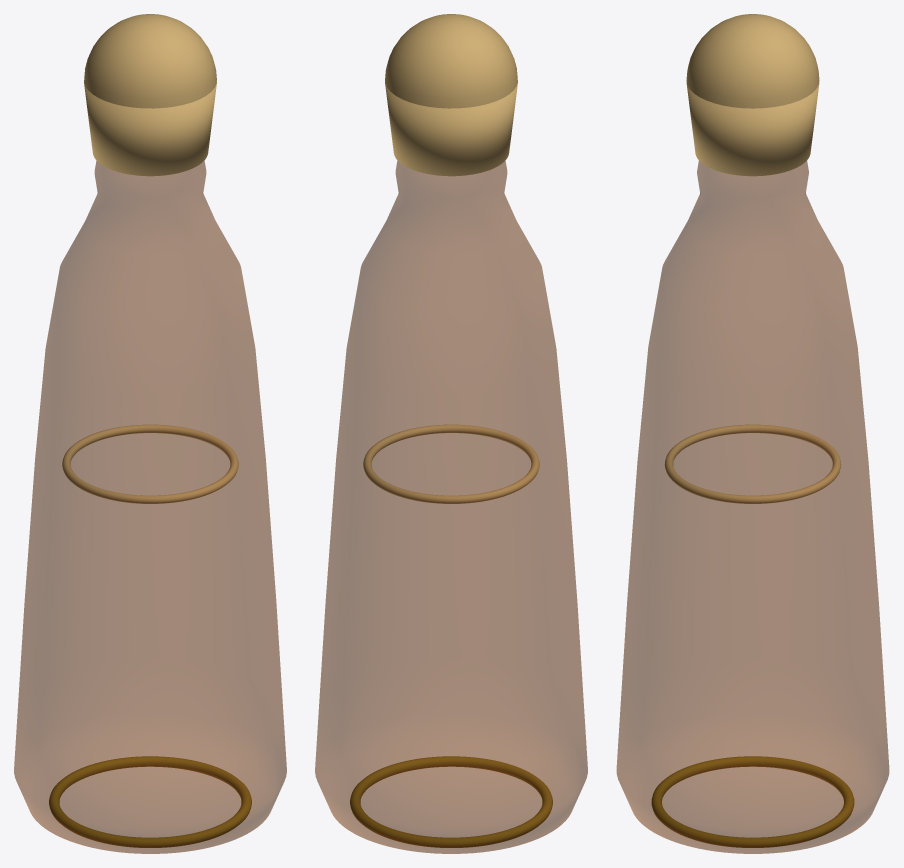
File: sillage.glb
The picture shows the model from 3 angles, left to right: view 1: azimuth 30°, elevation 25°; view 2: azimuth 150°, elevation 25°; view 3: azimuth 270°, elevation 25°; orthographic projection.
Parts seen in each view (by area): view 1: sillage; view 2: sillage; view 3: sillage.
Part boxes in pixels (x1,y1,x2,y2): sillage: (14,14,286,853); sillage: (315,14,587,853); sillage: (616,14,889,853).
Bounding box in the file's own units: 1.56 × 4.96 × 1.56.
